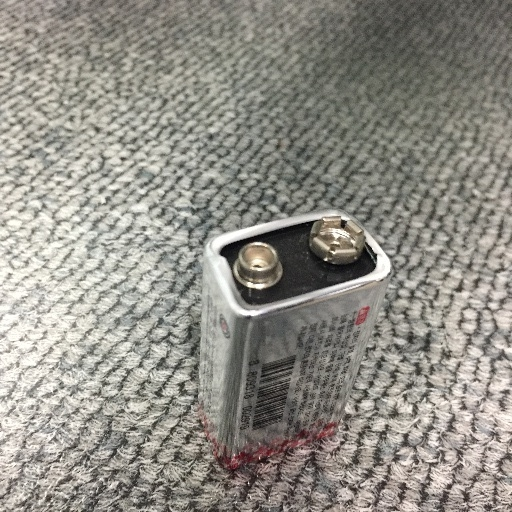Battery_3: (169, 178, 399, 482)
